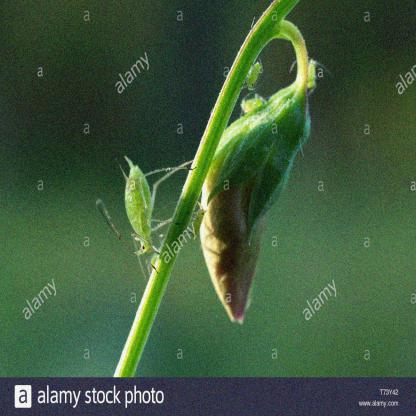schizaphis graminum: (124, 159, 153, 257)
